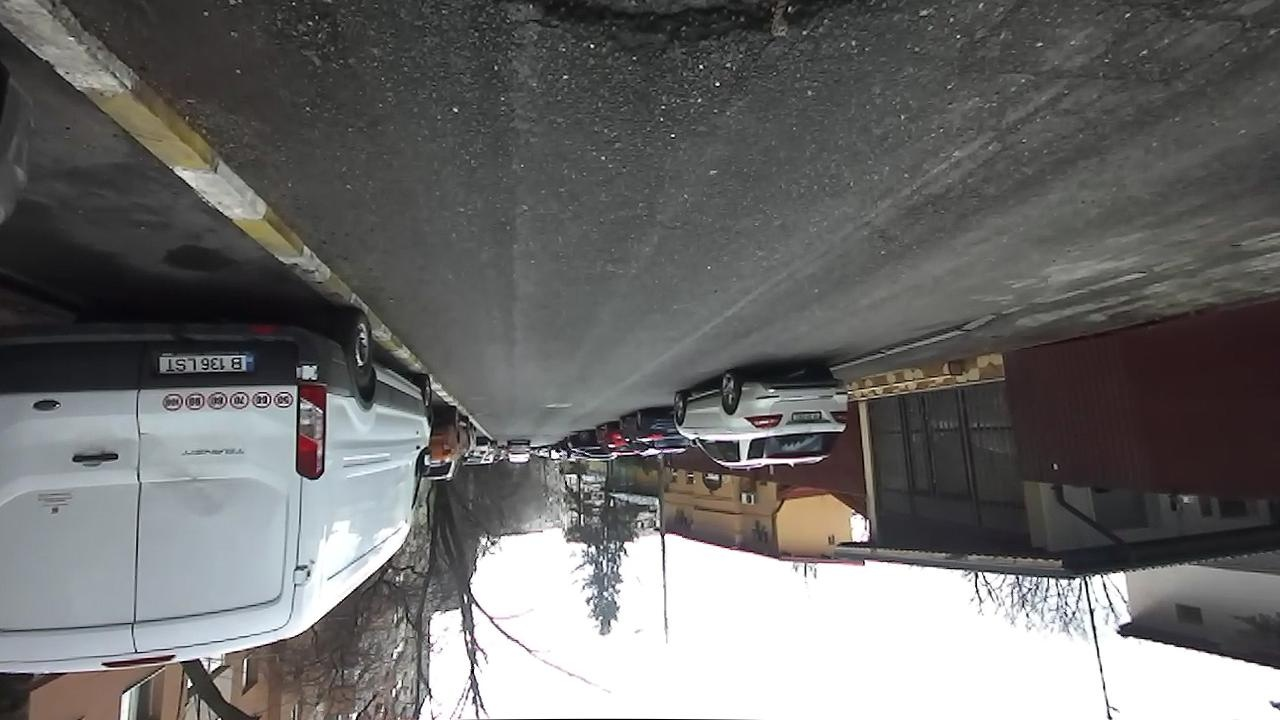pothole: (498, 0, 883, 51)
